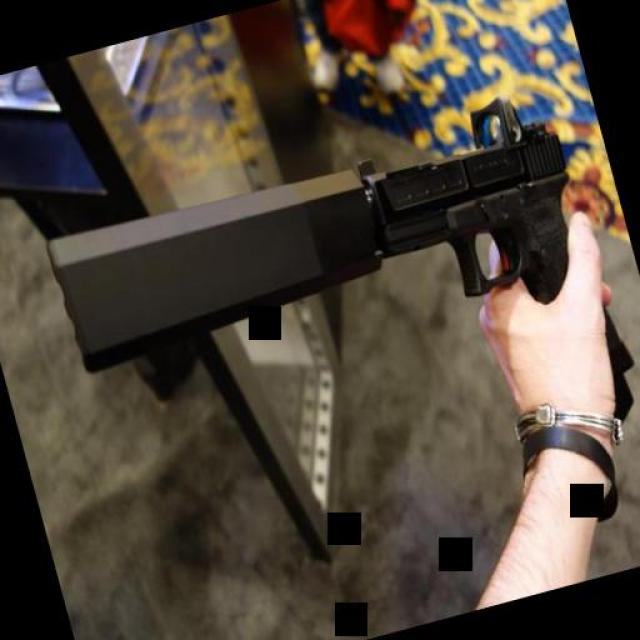gun: (347, 78, 640, 477)
